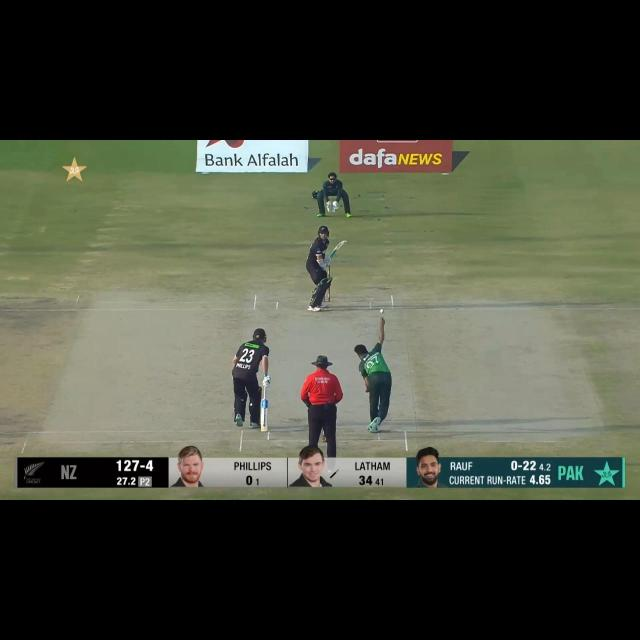bat: (324, 239, 346, 264), (260, 398, 269, 434)
toe: (259, 425, 269, 432), (340, 238, 347, 246)
